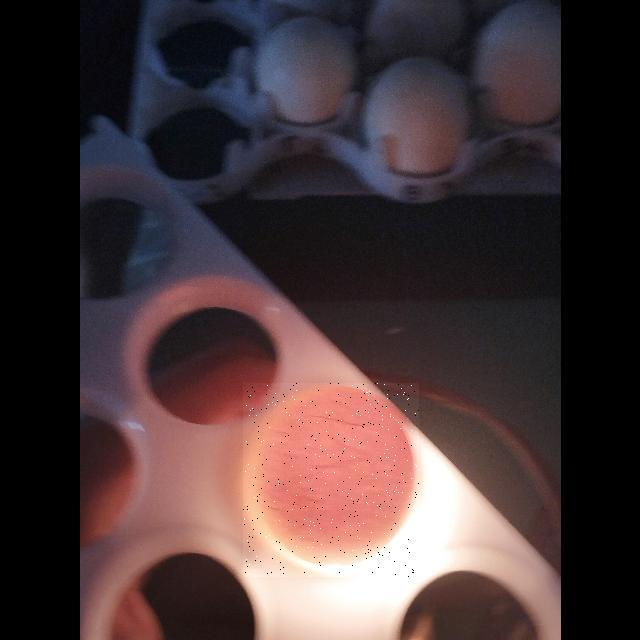Infertile: (243, 383, 419, 577)
